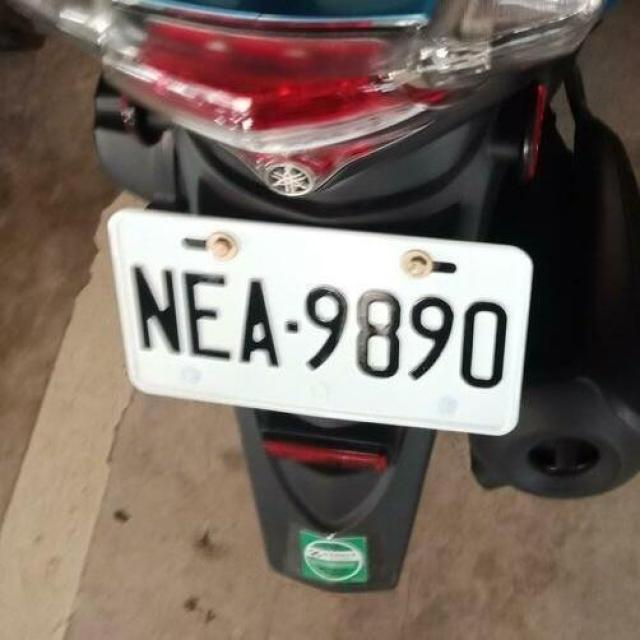W: (97, 175, 546, 459)
